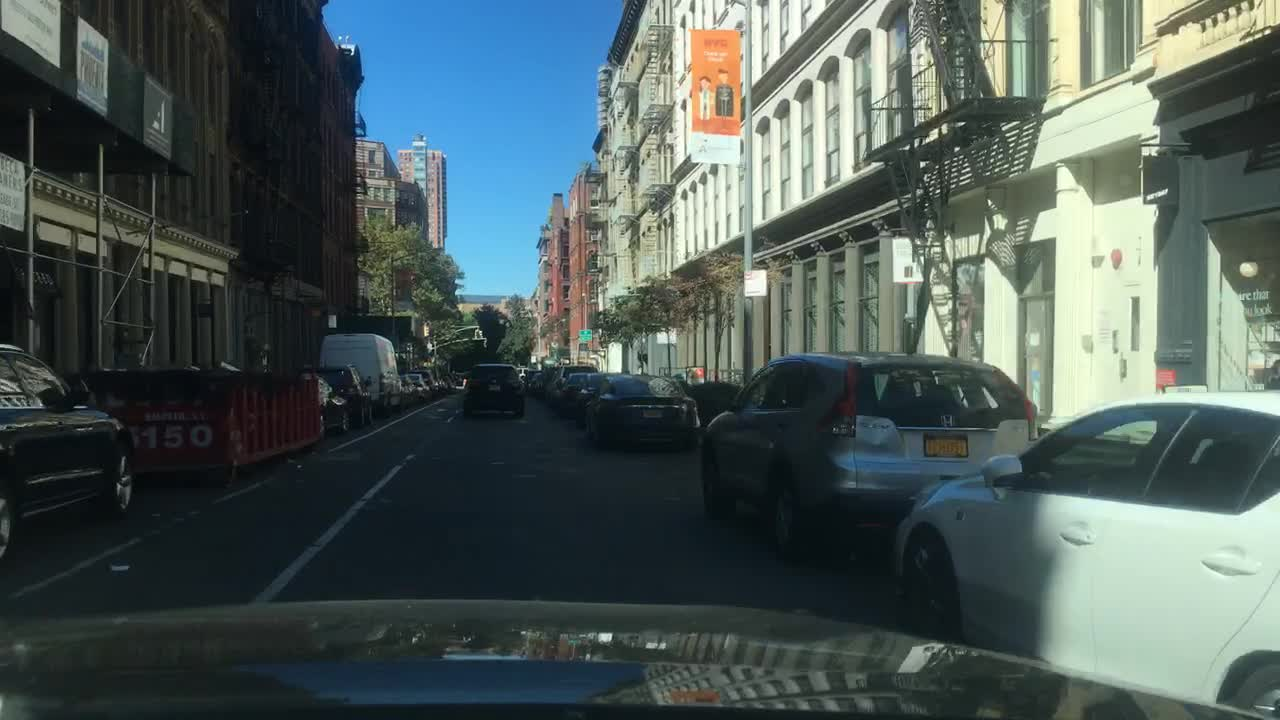car: (890, 386, 1279, 715), (696, 351, 1038, 557), (0, 341, 136, 555), (583, 372, 701, 448), (317, 334, 399, 407), (302, 363, 371, 429), (458, 361, 523, 420), (299, 373, 349, 429), (558, 370, 602, 414), (544, 366, 570, 406), (529, 370, 545, 394), (409, 373, 427, 394), (399, 375, 417, 393), (425, 373, 439, 394)
traffic light: (419, 322, 430, 337), (424, 342, 434, 352), (475, 329, 485, 338)
traffic sign: (744, 267, 772, 299), (576, 326, 591, 345)
